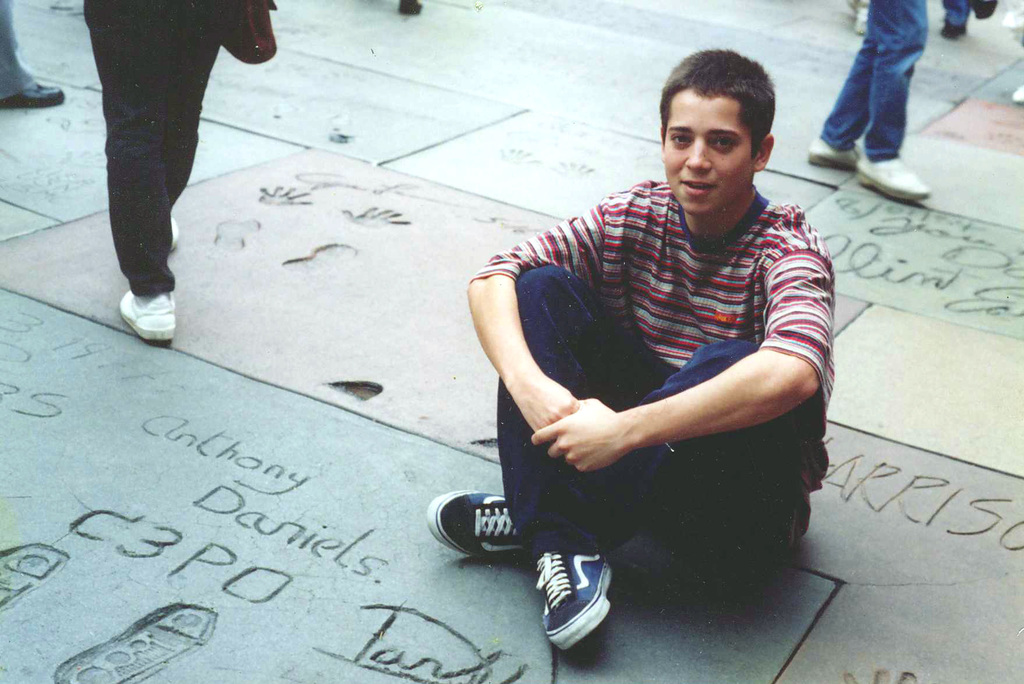Human_hand: (559, 395, 651, 484), (514, 372, 582, 435)
